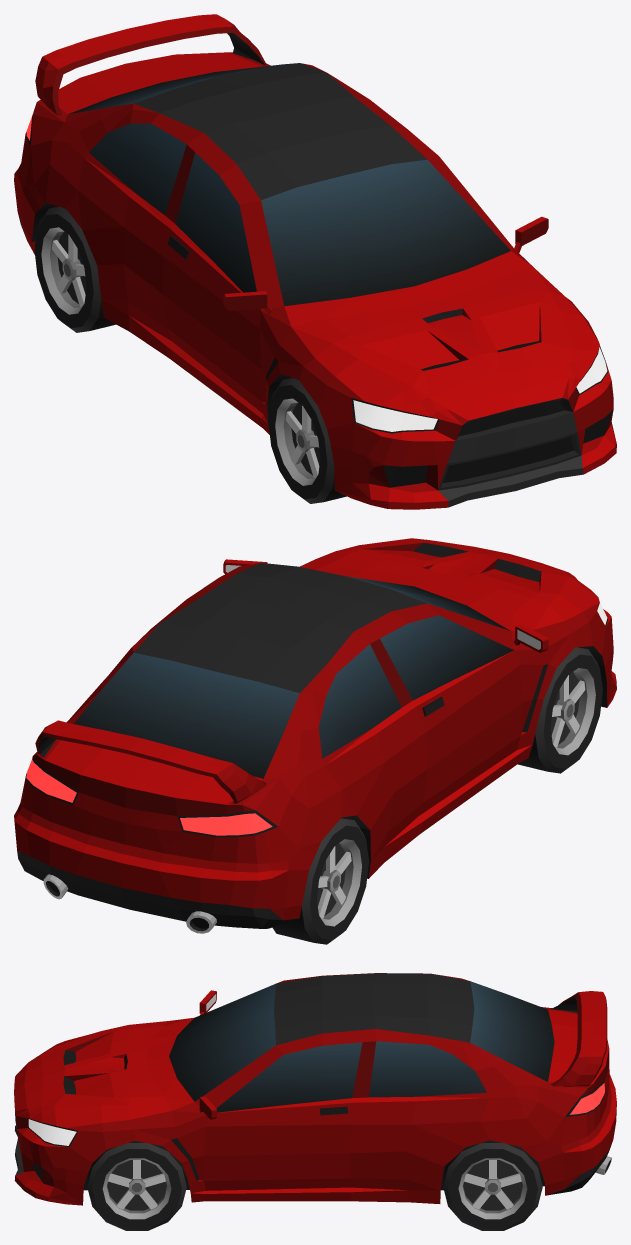
The model's file is mitsubishi_lancer_evo_x.glb.
The picture shows the model from 3 angles, top to bottom: view 1: azimuth 30°, elevation 25°; view 2: azimuth 150°, elevation 25°; view 3: azimuth 270°, elevation 25°; orthographic projection. The views are drawn at different scales.
Visible parts, largest first — view 1: Body, RRW_mesh, FRW_mesh; view 2: Body, RRW_mesh, FRW_mesh; view 3: Body, RLW_mesh, FLW_mesh.
Boxes of the visible parts, x1,y1,x2,y2 form: Body: (14,14,616,509); RRW_mesh: (34,206,115,332); FRW_mesh: (268,377,346,503); Body: (14,538,616,933); RRW_mesh: (272,817,368,944); FRW_mesh: (518,647,602,773); Body: (14,973,616,1205); RLW_mesh: (443,1140,542,1230); FLW_mesh: (87,1141,186,1230).
Size of the model in its own units: 196 by 139 by 416.
Materials: 8 (2 with a texture image).
